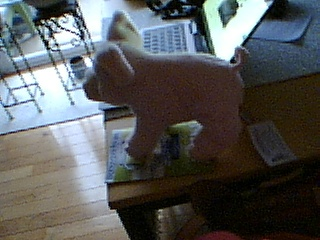piggy: (80, 8, 252, 163)
